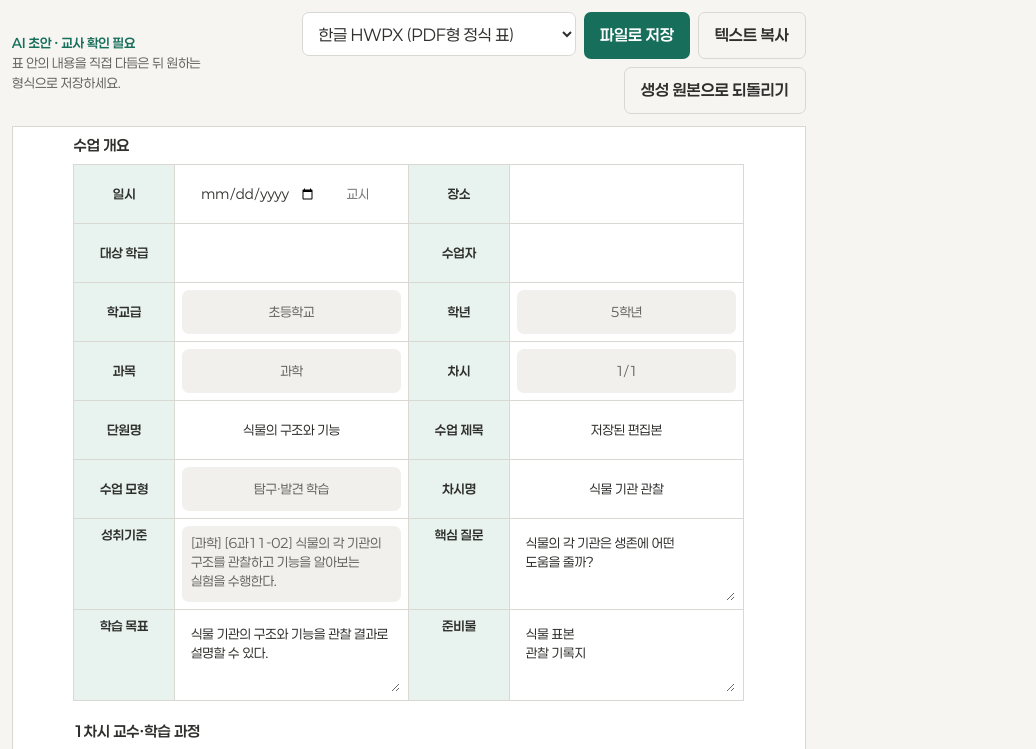
Test: 복원 시 현재 편집본이 아닌 별도 생성 원본의 복제본을 전달한다
The image size is (1036, 749).
(page scrolled)
Replace the text in the field named "1차시 수업 제목" with "추가 편집" at (626, 430), box left=517, top=408, right=736, bottom=452
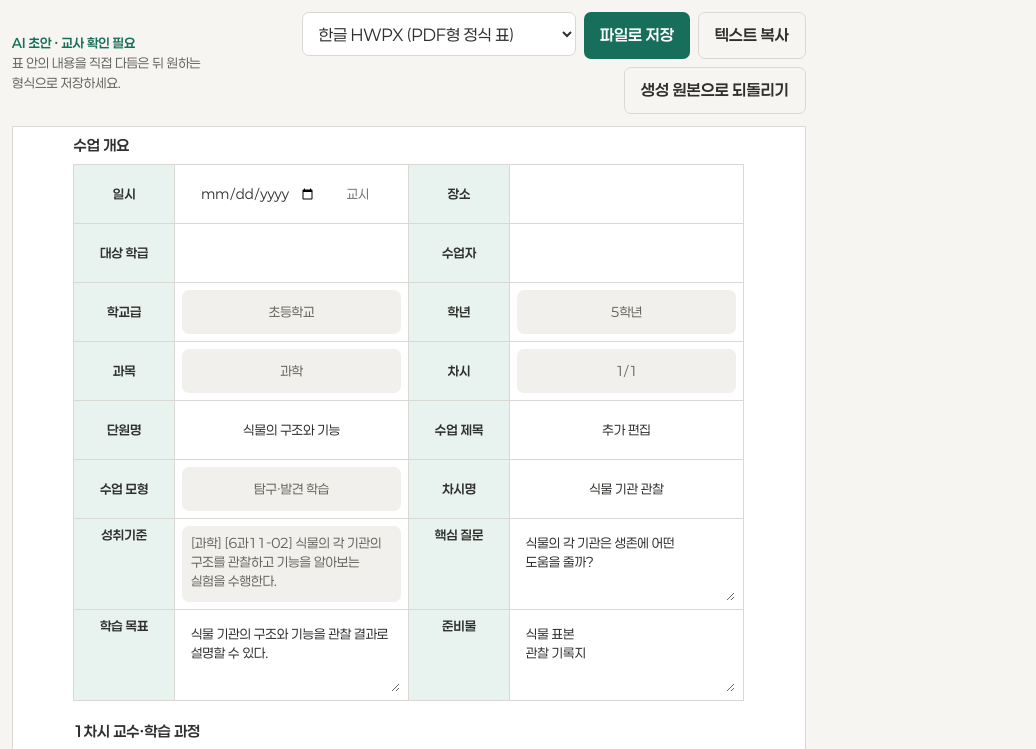
Click the button "생성 원본으로 되돌리기".
click(715, 90)  # box left=624, top=67, right=806, bottom=114
(page scrolled)
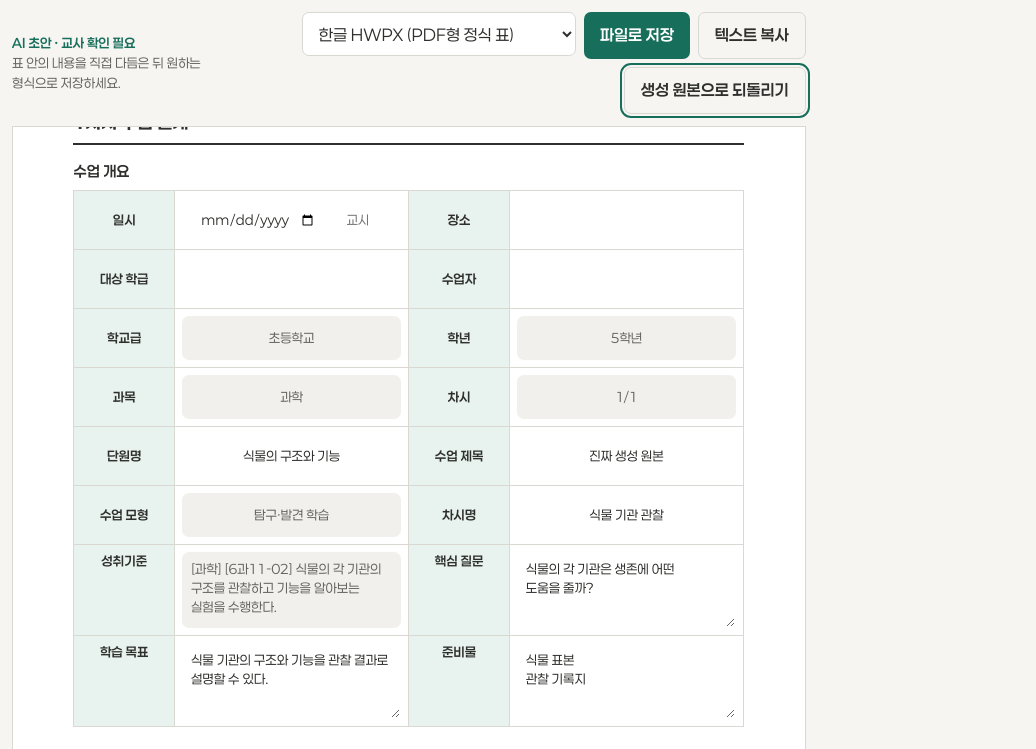
Result: the field named "1차시 수업 제목" holds "진짜 생성 원본" at left=517, top=434, right=736, bottom=478
